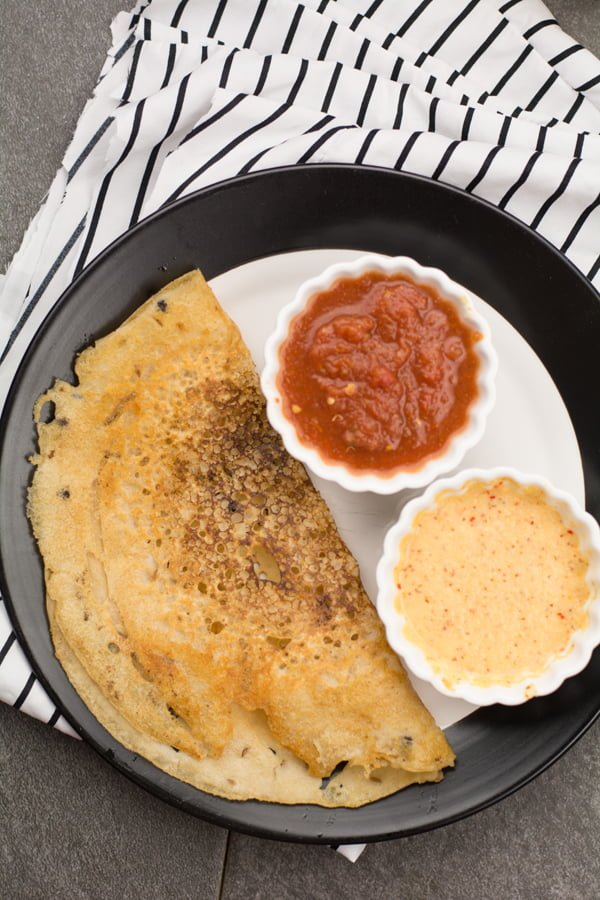dosa: (23, 268, 456, 809)
